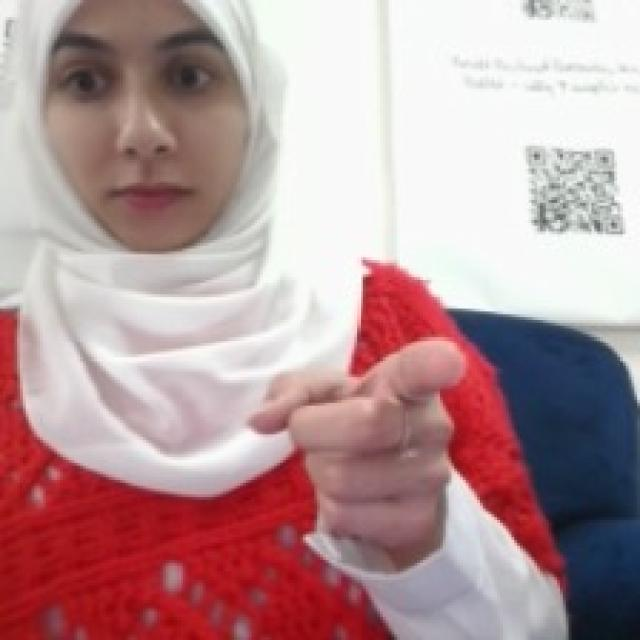you: (238, 327, 476, 554)
